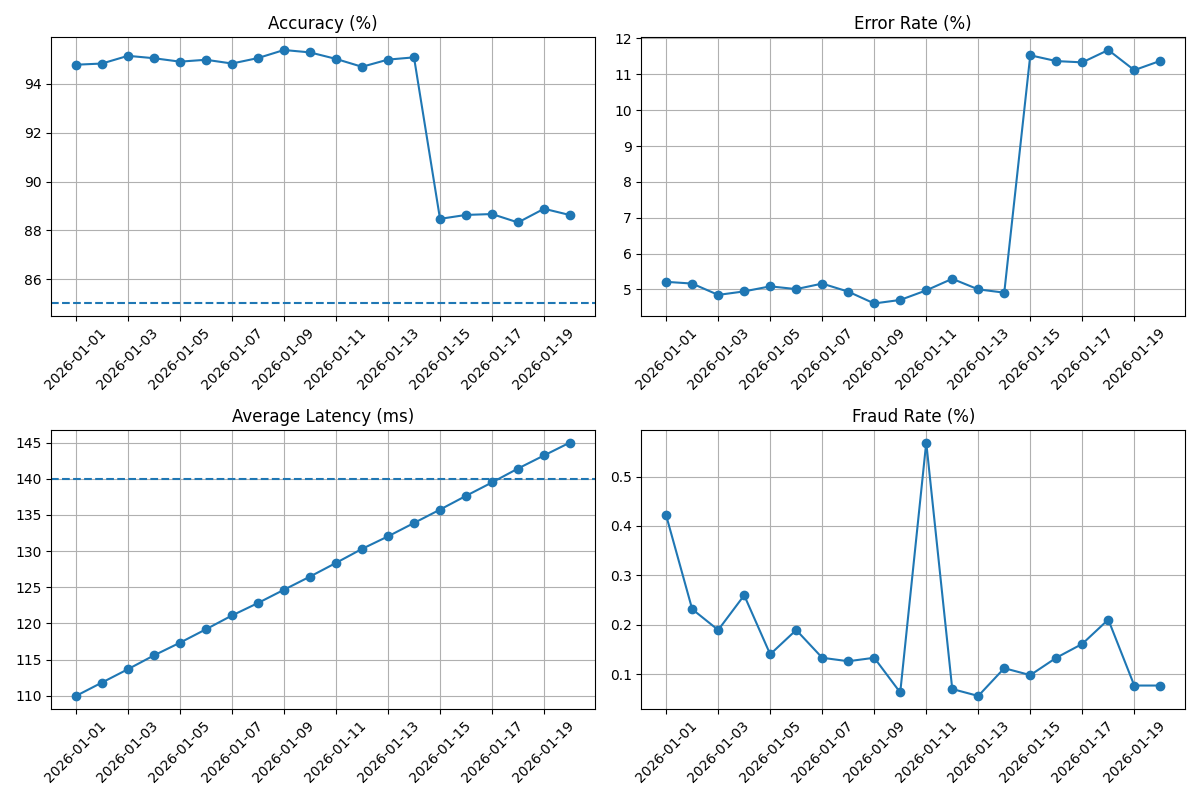

Layout of this report page (visuals, bound fields, positions):
{"tool":"tableau","page":{"name":"Fraud Detection Model Monitoring Dashboard","canvas":[1000,800],"ordinal":0},"visuals":[{"type":"worksheet","title":"Accuracy","mark":"Automatic","rows":["accuracy"],"cols":["date"],"box":[8,8,492,392]},{"type":"worksheet","title":"Error Rate","mark":"Automatic","rows":["error_rate"],"cols":["date"],"box":[500,8,492,392]},{"type":"worksheet","title":"Latency","mark":"Automatic","rows":["avg_latency_ms"],"cols":["date"],"box":[8,400,492,392]},{"type":"worksheet","title":"Fraud Rate","mark":"Automatic","rows":["fraud_rate"],"cols":["date"],"box":[500,400,492,392]}]}

Visuals, with their boxes on the page's 1000x800 design canvas (x1, y1, x2, y2). These are canvas units, not pixel positions in the 1200x800 screenshot, which may show the page scaled, cropped or inside an application window:
"Accuracy" worksheet: 8 8 500 400
"Error Rate" worksheet: 500 8 992 400
"Latency" worksheet: 8 400 500 792
"Fraud Rate" worksheet: 500 400 992 792
